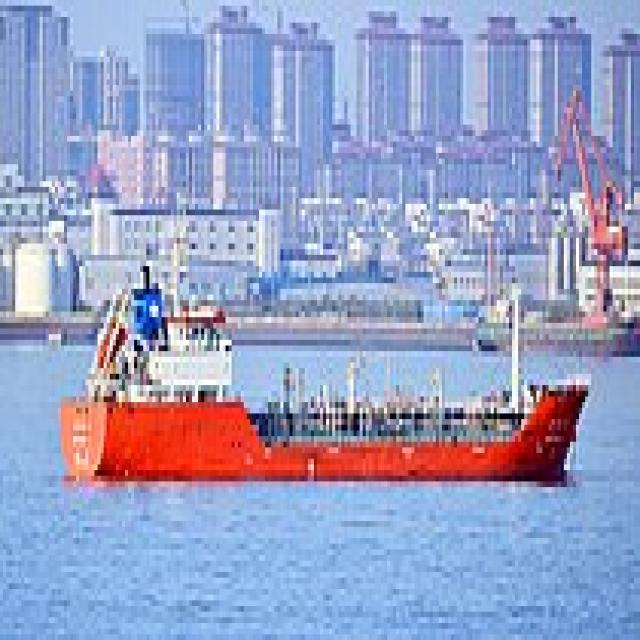Tanker: (49, 255, 591, 481)
